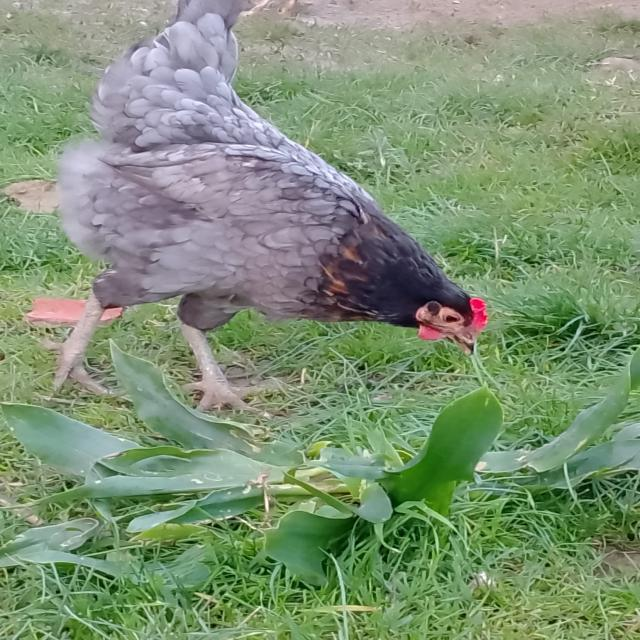Healthy: (28, 5, 512, 421)
